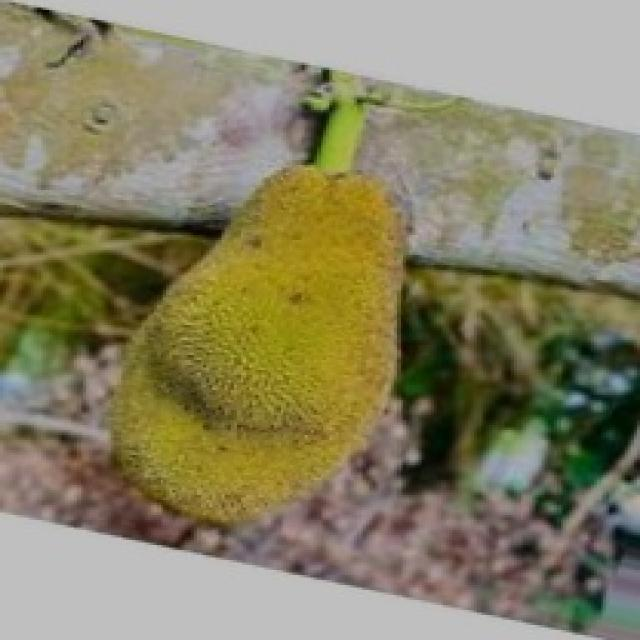Fruit: (62, 135, 456, 550)
